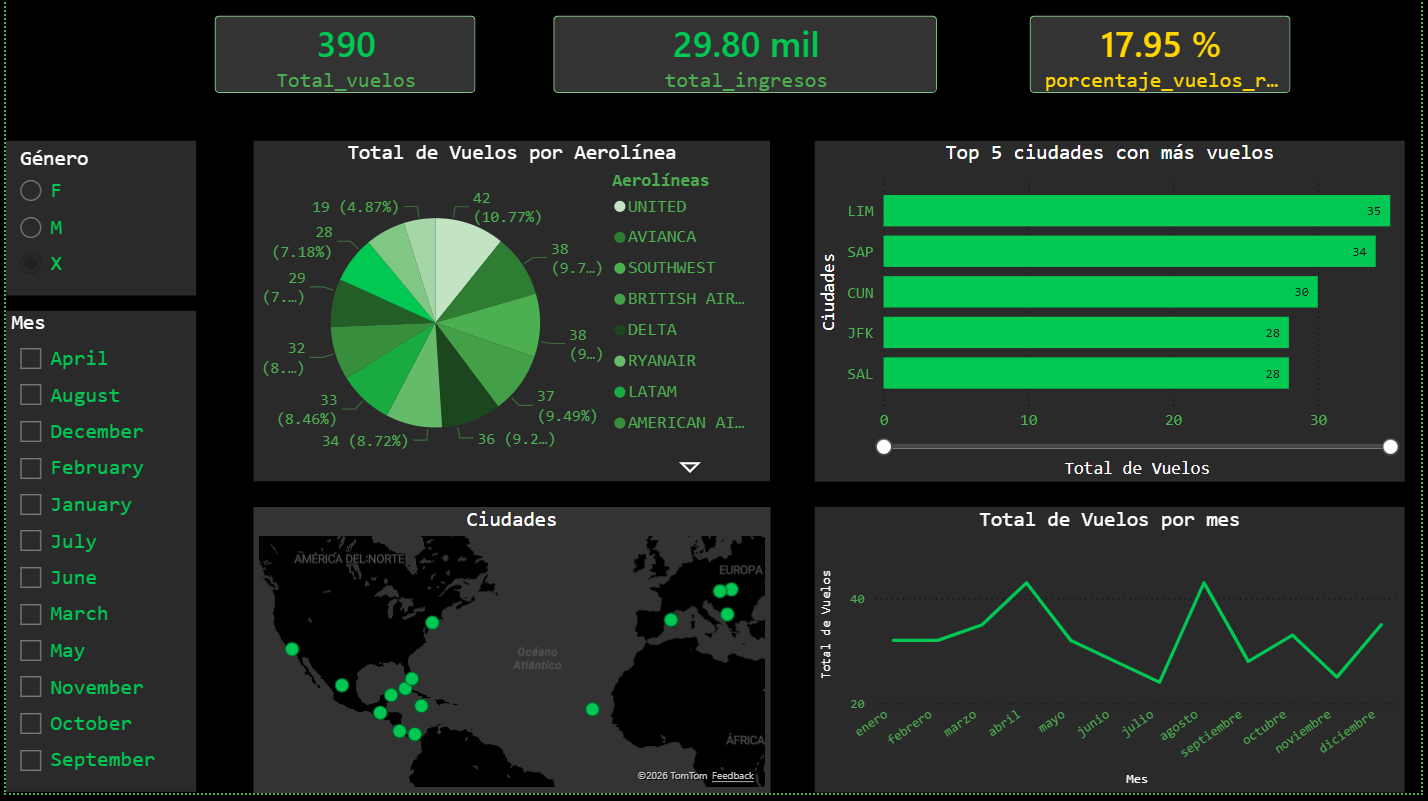

The page's visual inventory and layout, read from the dashboard file:
{"tool":"powerbi","page":{"name":"Página 1","canvas":[1280,720],"ordinal":0},"visuals":[{"type":"cardVisual","fields":{"Data":["dim_vuelo.Total_vuelos"]},"box":[171.9,0,270.2,104],"z":0},{"type":"cardVisual","fields":{"Data":["dim_aerolinea.total_ingresos"]},"box":[478.3,0,381,104],"z":1000},{"type":"cardVisual","fields":{"Data":["dim_aerolinea.porcentaje_vuelos_retrasados"]},"box":[909,0,270.2,104],"z":2000},{"type":"pieChart","title":"Total de Vuelos por Aerolínea","fields":{"Category":["dim_aerolinea.airline_name"],"Y":["dim_vuelo.Total_vuelos"]},"box":[224.4,130.2,467.4,308.1],"z":3000},{"type":"clusteredBarChart","title":"Top 5 ciudades con más vuelos","fields":{"Category":["dim_aeropuerto.codigo_iata"],"Y":["dim_vuelo.Total_vuelos"]},"box":[731.4,130.2,533.7,308.1],"z":4000},{"type":"lineChart","title":"Total de Vuelos por mes","fields":{"Category":["dim_fecha.fecha.Variación.Jerarquía de fechas.Mes"],"Y":["dim_vuelo.Total_vuelos"]},"box":[731.4,461.6,533.7,258.1],"z":5000},{"type":"azureMap","title":"Ciudades","fields":{"Category":["dim_aeropuerto.codigo_iata"]},"box":[224.4,461.6,467.4,258.1],"z":6000},{"type":"slicer","fields":{"Values":["dim_pasajero.genero"]},"box":[0,130,171.9,140.2],"z":7000},{"type":"slicer","title":"Mes","fields":{"Values":["dim_fecha.nombre_mes"]},"box":[0,283.8,171.9,435.3],"z":8000}]}

Visuals, with their boxes in screenshot pixels (x1, y1, x2, y2), scaled from the page's 1280x720 canvas onto the 1428x801 screenshot:
cardVisual - dim_vuelo.Total_vuelos: x1=192 y1=0 x2=493 y2=116
cardVisual - dim_aerolinea.total_ingresos: x1=534 y1=0 x2=959 y2=116
cardVisual - dim_aerolinea.porcentaje_vuelos_retrasados: x1=1014 y1=0 x2=1316 y2=116
"Total de Vuelos por Aerolínea" pieChart: x1=250 y1=145 x2=772 y2=488
"Top 5 ciudades con más vuelos" clusteredBarChart: x1=816 y1=145 x2=1411 y2=488
"Total de Vuelos por mes" lineChart: x1=816 y1=514 x2=1411 y2=800
"Ciudades" azureMap: x1=250 y1=514 x2=772 y2=800
slicer - dim_pasajero.genero: x1=0 y1=145 x2=192 y2=301
"Mes" slicer: x1=0 y1=316 x2=192 y2=800
